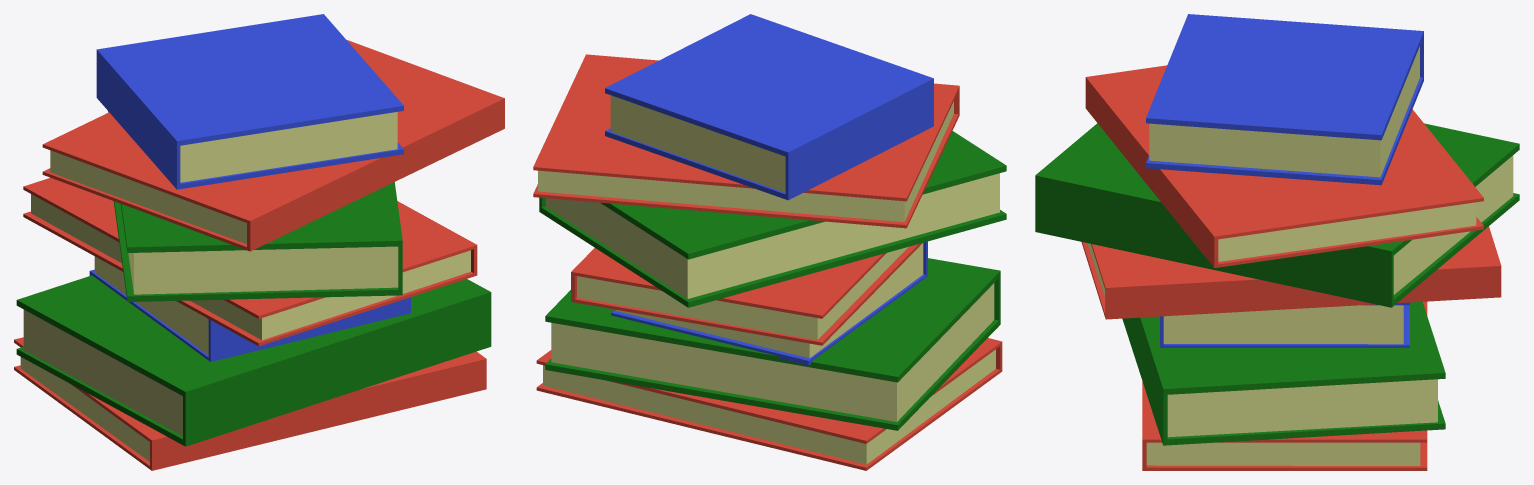
The model's file is Pilha de Livros.fbx.
The picture shows the model from 3 angles, left to right: view 1: azimuth 30°, elevation 25°; view 2: azimuth 150°, elevation 25°; view 3: azimuth 270°, elevation 25°; orthographic projection. The views are drawn at different scales.
Parts seen in each view (by area): view 1: Cube.001, Cube.005, Cube.006, Cube.004, Cube.003, Cube, Cube.002; view 2: Cube.005, Cube.001, Cube.004, Cube.006, Cube, Cube.003, Cube.002; view 3: Cube.005, Cube.006, Cube.001, Cube.004, Cube.003, Cube, Cube.002.
Boxes of the visible parts, box(x1,y1,x2,y2) form: Cube.001: box(16, 275, 491, 446); Cube.005: box(96, 14, 403, 189); Cube.006: box(42, 39, 504, 251); Cube.004: box(108, 111, 402, 301); Cube.003: box(23, 177, 477, 346); Cube: box(14, 337, 486, 470); Cube.002: box(89, 256, 410, 361); Cube.005: box(605, 14, 933, 200); Cube.001: box(545, 258, 1000, 430); Cube.004: box(539, 131, 1006, 307); Cube.006: box(533, 54, 959, 228); Cube: box(536, 338, 1002, 470); Cube.003: box(571, 243, 922, 345); Cube.002: box(611, 241, 927, 365); Cube.005: box(1146, 14, 1423, 185); Cube.006: box(1085, 65, 1483, 267); Cube.001: box(1122, 302, 1445, 445); Cube.004: box(1035, 123, 1519, 307); Cube.003: box(1081, 226, 1501, 319); Cube: box(1142, 301, 1427, 470); Cube.002: box(1160, 302, 1409, 347).
Size of the model in its own units: 71.89 by 51.59 by 72.62.
